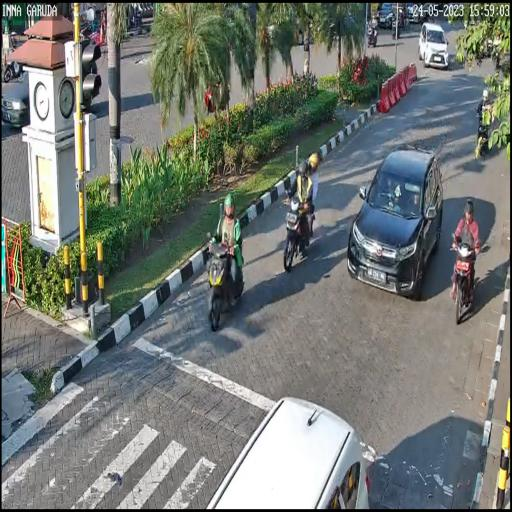mobil: (348, 145, 444, 301), (419, 22, 448, 72)
motor: (205, 230, 246, 332), (282, 187, 319, 275), (451, 232, 482, 326)
